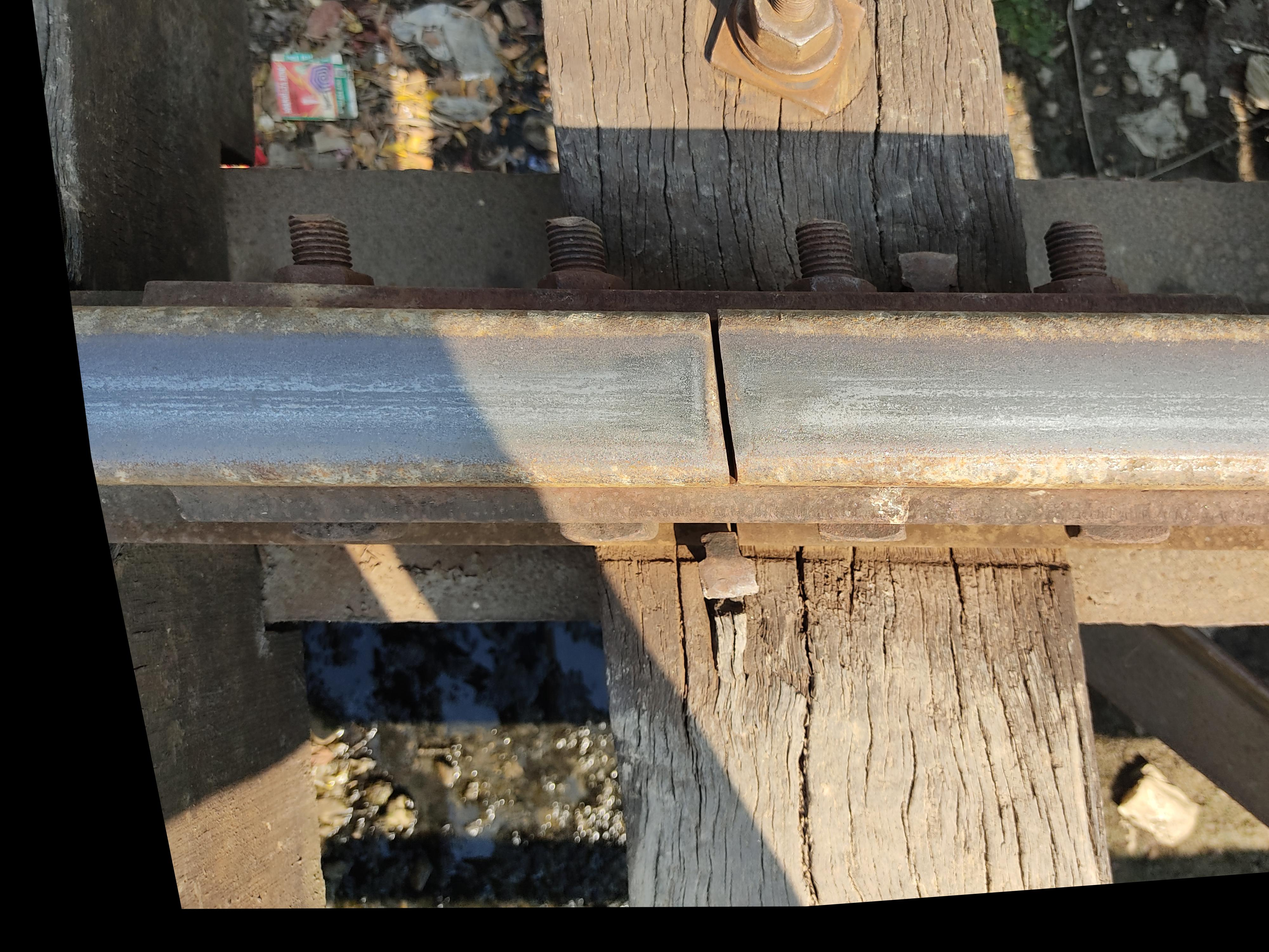person: (581, 235, 871, 496)
